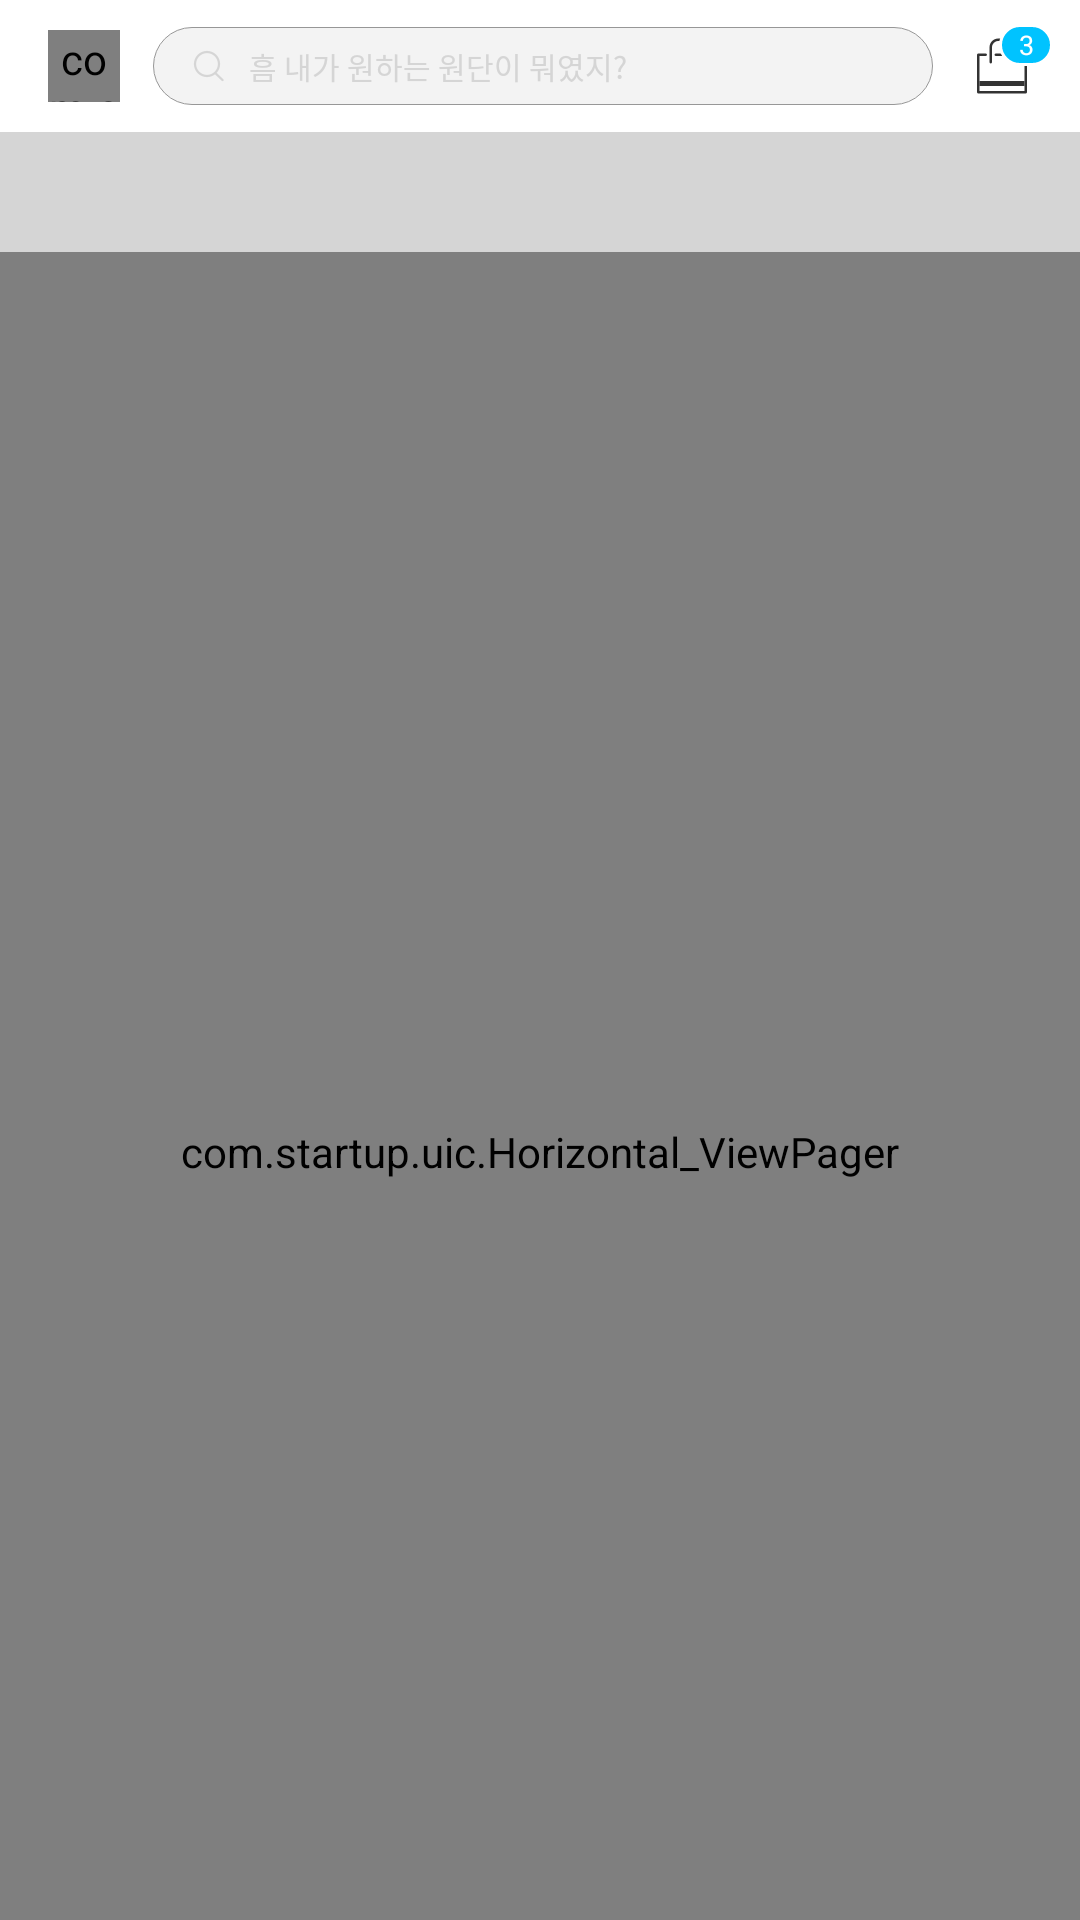

Icons on this 1080px×1920px Android screen, each with its box as bbox(x1, y1, x2, y2):
shopping bag: bbox(977, 27, 1050, 94)
